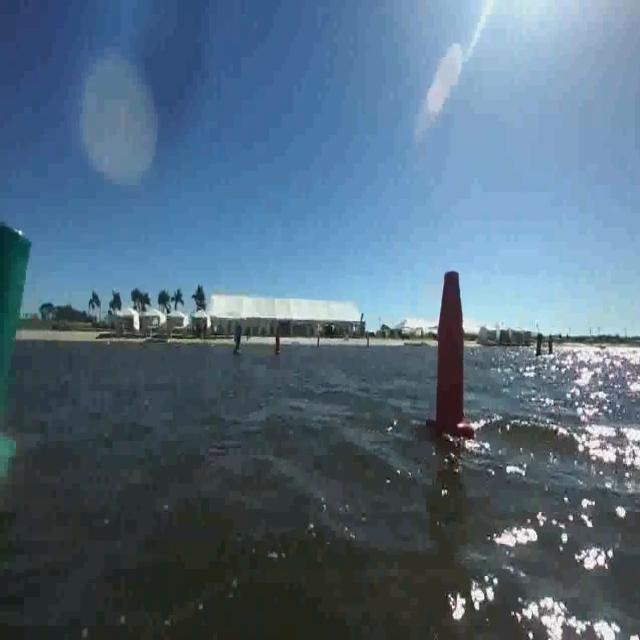green-column-buoy: (0, 215, 37, 475), (533, 329, 545, 358), (234, 325, 245, 356)
red-column-buoy: (430, 263, 474, 444), (274, 333, 284, 357), (546, 335, 554, 357)
